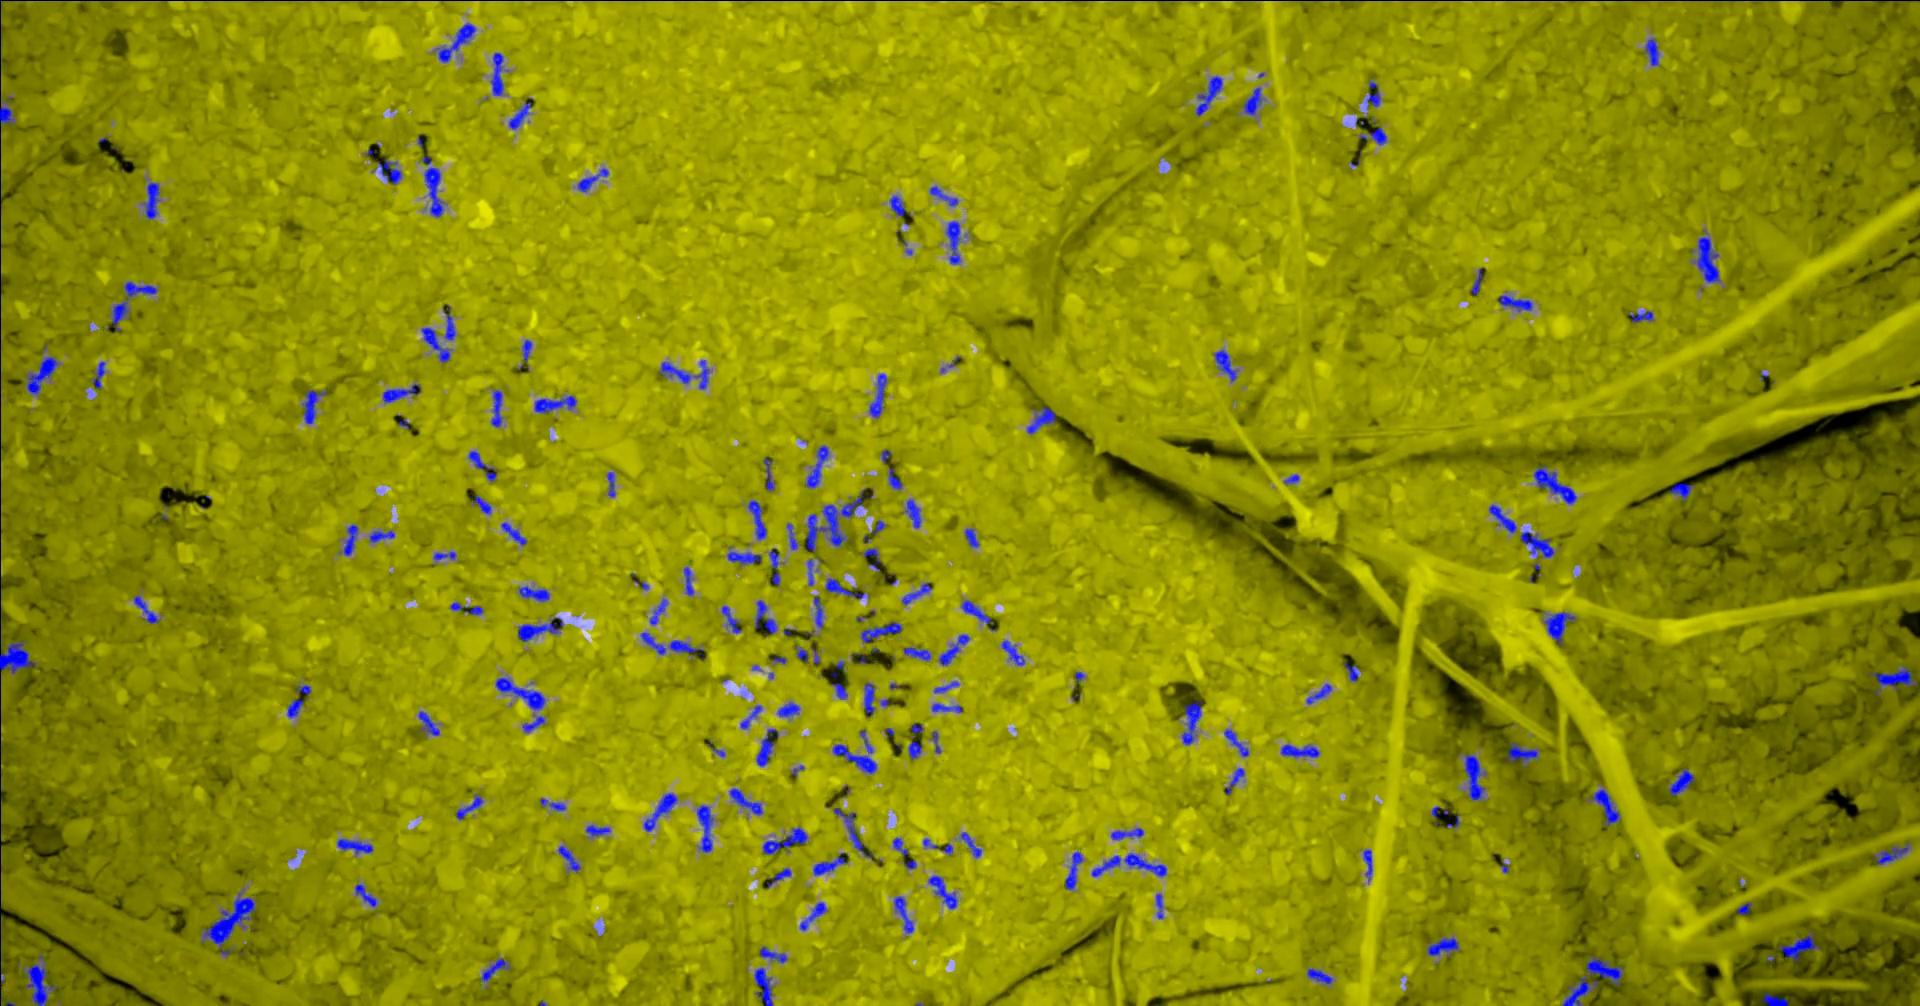ant: (0, 607, 36, 673), (110, 281, 156, 332), (833, 807, 871, 857), (832, 730, 876, 774), (1091, 852, 1166, 876), (23, 953, 57, 1005), (640, 633, 703, 659), (1533, 465, 1576, 503), (436, 22, 475, 62), (495, 677, 545, 709), (658, 359, 709, 389), (422, 156, 444, 217), (0, 915, 15, 1005), (643, 793, 677, 831), (1777, 931, 1818, 962), (762, 827, 808, 854), (25, 356, 57, 394), (1697, 230, 1719, 282), (517, 617, 563, 641), (1868, 666, 1916, 688), (1195, 75, 1222, 116), (1586, 955, 1623, 984), (1561, 976, 1597, 1005), (1591, 788, 1619, 826), (1544, 611, 1575, 645), (420, 326, 450, 362), (1463, 753, 1484, 799), (938, 634, 969, 666), (928, 875, 957, 908), (1181, 700, 1203, 744), (805, 445, 828, 486), (729, 788, 762, 815), (1519, 531, 1553, 558), (301, 389, 326, 423), (756, 728, 778, 766), (469, 450, 497, 480), (825, 578, 867, 598), (860, 621, 902, 641), (1873, 841, 1910, 864), (869, 373, 888, 417), (1488, 504, 1516, 533), (811, 852, 847, 875), (745, 500, 766, 540), (508, 97, 532, 130), (1026, 406, 1055, 433), (799, 901, 825, 930), (696, 805, 712, 852), (1506, 741, 1537, 766), (893, 895, 913, 934), (533, 395, 577, 413), (754, 600, 776, 635), (577, 166, 608, 191), (133, 594, 160, 622), (455, 793, 483, 819), (960, 600, 990, 624), (479, 956, 509, 981), (1214, 349, 1236, 381), (945, 220, 960, 264), (382, 384, 420, 401), (1223, 729, 1248, 756), (1669, 768, 1694, 795), (1064, 851, 1082, 889), (754, 967, 772, 1005), (902, 582, 931, 605), (557, 845, 580, 873), (377, 158, 401, 183), (500, 521, 526, 545), (728, 546, 761, 564), (1001, 640, 1023, 666), (960, 831, 982, 857), (930, 185, 957, 206), (721, 605, 742, 633), (1497, 295, 1531, 311), (1426, 937, 1458, 955), (143, 182, 159, 218), (1242, 86, 1261, 116), (417, 711, 439, 735), (354, 883, 377, 907), (490, 52, 503, 95), (337, 838, 372, 854), (739, 705, 761, 729), (1225, 767, 1244, 794), (1280, 744, 1319, 757), (766, 868, 790, 888), (1669, 481, 1694, 500), (1305, 683, 1331, 702), (1359, 126, 1385, 144), (1305, 967, 1332, 984), (343, 525, 358, 555), (518, 586, 549, 601), (442, 304, 455, 339), (649, 598, 667, 624), (863, 547, 881, 572), (517, 339, 531, 370), (768, 547, 780, 584), (450, 601, 483, 614), (1110, 827, 1143, 840), (490, 390, 502, 426), (759, 946, 786, 962), (905, 499, 919, 527), (0, 97, 13, 127), (888, 196, 907, 216), (763, 457, 775, 490), (1644, 38, 1658, 65), (903, 647, 930, 661), (472, 495, 491, 514), (522, 715, 543, 732), (1366, 80, 1380, 105), (1763, 991, 1788, 1005), (863, 682, 874, 716), (91, 361, 104, 387), (538, 798, 565, 810), (777, 701, 799, 716), (1628, 310, 1653, 323), (368, 530, 394, 542), (931, 702, 963, 713), (286, 699, 303, 716), (933, 680, 957, 692), (585, 824, 610, 837), (888, 467, 902, 489), (813, 594, 822, 627), (891, 837, 908, 855), (1363, 848, 1371, 882), (786, 523, 797, 549), (964, 528, 979, 547), (1343, 662, 1359, 681), (808, 558, 818, 586), (683, 567, 693, 594), (830, 682, 847, 699), (1470, 267, 1481, 293), (606, 471, 615, 497), (908, 741, 921, 758), (795, 645, 808, 661), (1736, 902, 1751, 915), (432, 551, 456, 559), (1156, 893, 1162, 918), (296, 683, 310, 694)
